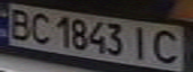1: (51, 14, 72, 48)
3: (103, 20, 130, 57)
4: (87, 19, 109, 55)
8: (66, 16, 90, 52)
B: (3, 6, 36, 40)
C: (148, 27, 187, 65), (24, 10, 54, 45)
I: (127, 24, 157, 61)
